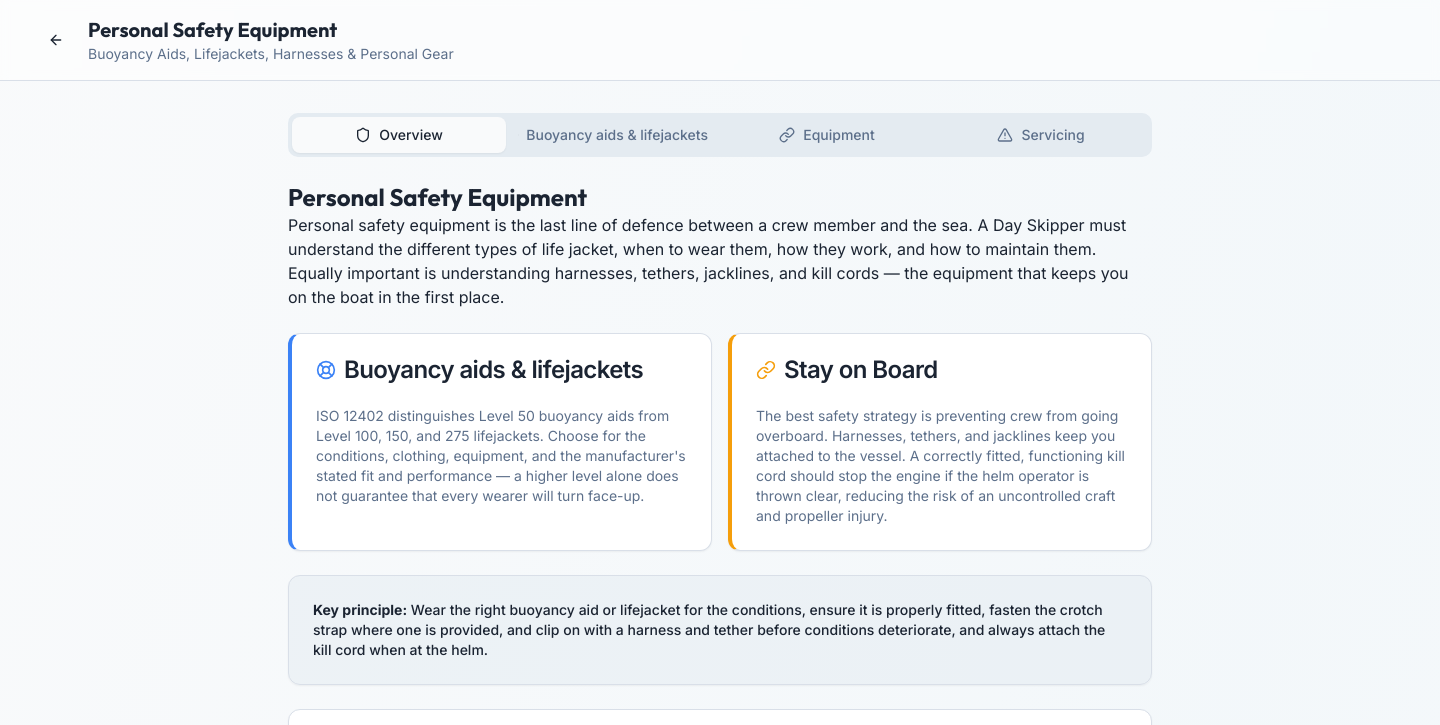
PersonalSafetyTheory Page › should display the buoyancy aid and all three lifejacket levels in the inclusive tab (AC-1)
Step 1. Click the tab "Buoyancy aids & lifejackets" → (613, 135), box [506, 117, 720, 153]
(page scrolled)
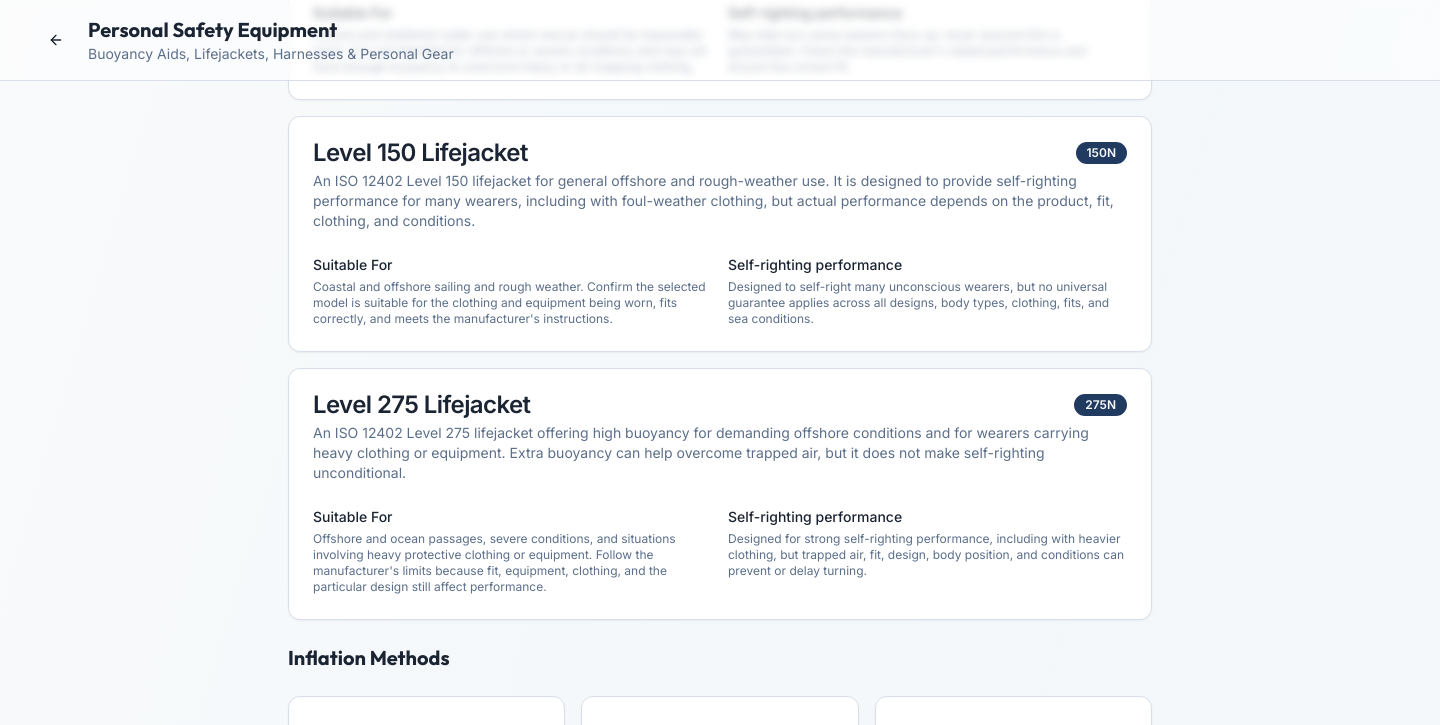
Expected: the text "Level 150 Lifejacket" is shown, [313, 141, 528, 165]
Expected: the text "Level 275 Lifejacket" is shown, [313, 393, 530, 417]
